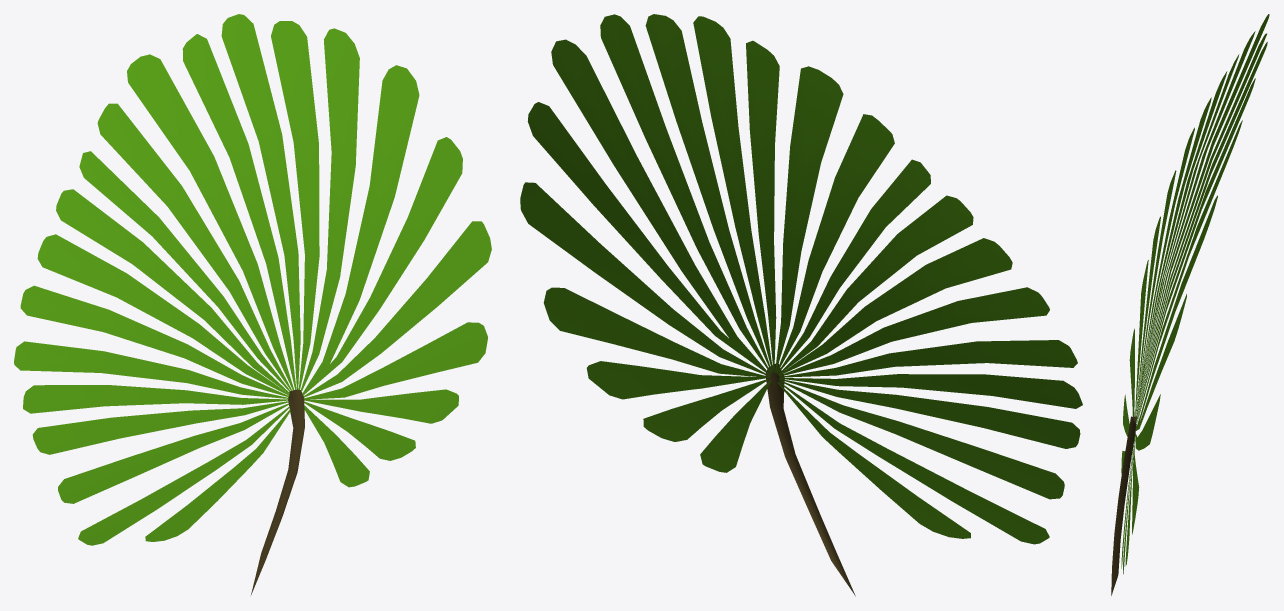
The model's file is Plant02.FBX.
The picture shows the model from 3 angles, left to right: view 1: azimuth 30°, elevation 25°; view 2: azimuth 150°, elevation 25°; view 3: azimuth 270°, elevation 25°; orthographic projection. The views are drawn at different scales.
Visible parts, largest first — view 1: Plane006; view 2: Plane006; view 3: Plane006.
Part boxes in pixels (box(x1,y1,x2,y2)): Plane006: box(14, 14, 491, 594); Plane006: box(520, 14, 1082, 596); Plane006: box(1111, 14, 1269, 595).
Size of the model in its own units: 55.17 by 58.14 by 14.32.
